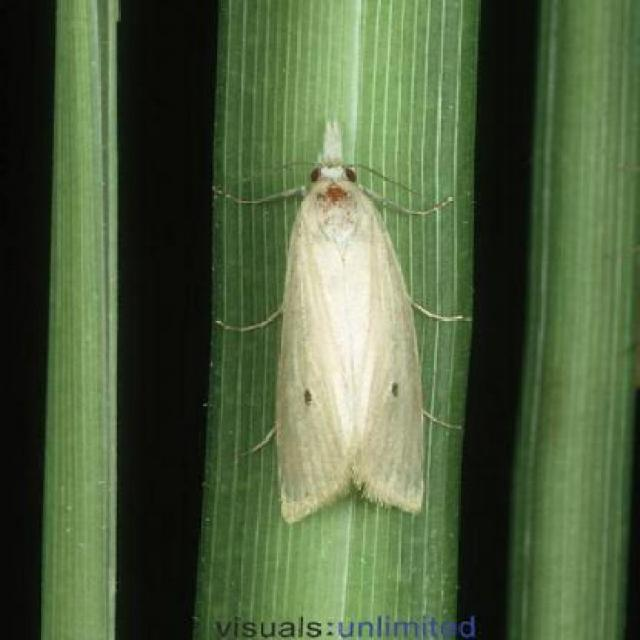stem-borer: (237, 115, 435, 532)
